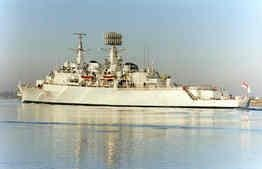warship: (12, 25, 252, 109)
